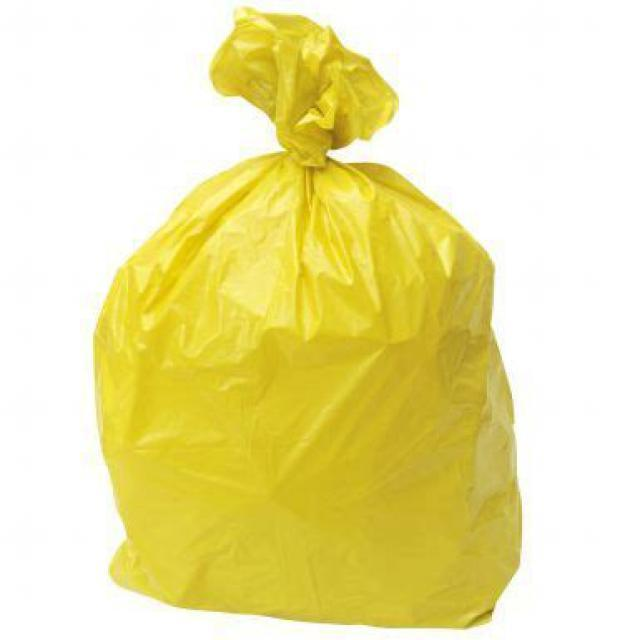waste: (86, 12, 525, 620)
